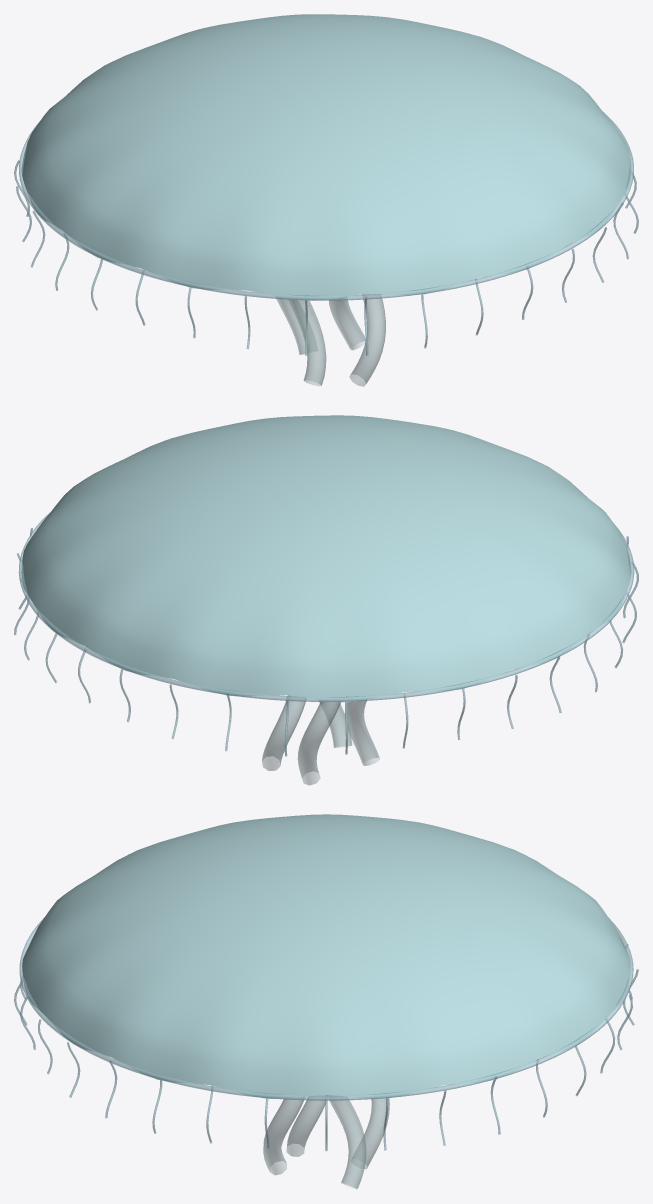
File: moon-jelly-v2.glb
The picture shows the model from 3 angles, top to bottom: view 1: azimuth 30°, elevation 25°; view 2: azimuth 150°, elevation 25°; view 3: azimuth 270°, elevation 25°; orthographic projection.
Parts seen in each view (by area): view 1: Jelly_Bell, Jelly_Bell_Rim, Jelly_Oral_Arm_0; view 2: Jelly_Bell, Jelly_Bell_Rim, Jelly_Oral_Arm_0; view 3: Jelly_Bell, Jelly_Bell_Rim, Jelly_Oral_Arm_0.
Boxes of the visible parts, bbox=[...] form: Jelly_Bell: bbox=[21, 14, 631, 300]; Jelly_Bell_Rim: bbox=[14, 112, 638, 355]; Jelly_Oral_Arm_0: bbox=[276, 294, 385, 386]; Jelly_Bell: bbox=[21, 415, 631, 702]; Jelly_Bell_Rim: bbox=[14, 513, 638, 756]; Jelly_Oral_Arm_0: bbox=[262, 695, 379, 785]; Jelly_Bell: bbox=[22, 814, 630, 1098]; Jelly_Bell_Rim: bbox=[14, 917, 638, 1151]; Jelly_Oral_Arm_0: bbox=[263, 1095, 389, 1188].
Bounding box in the file's own units: 0.3573 × 0.1886 × 0.3572.
